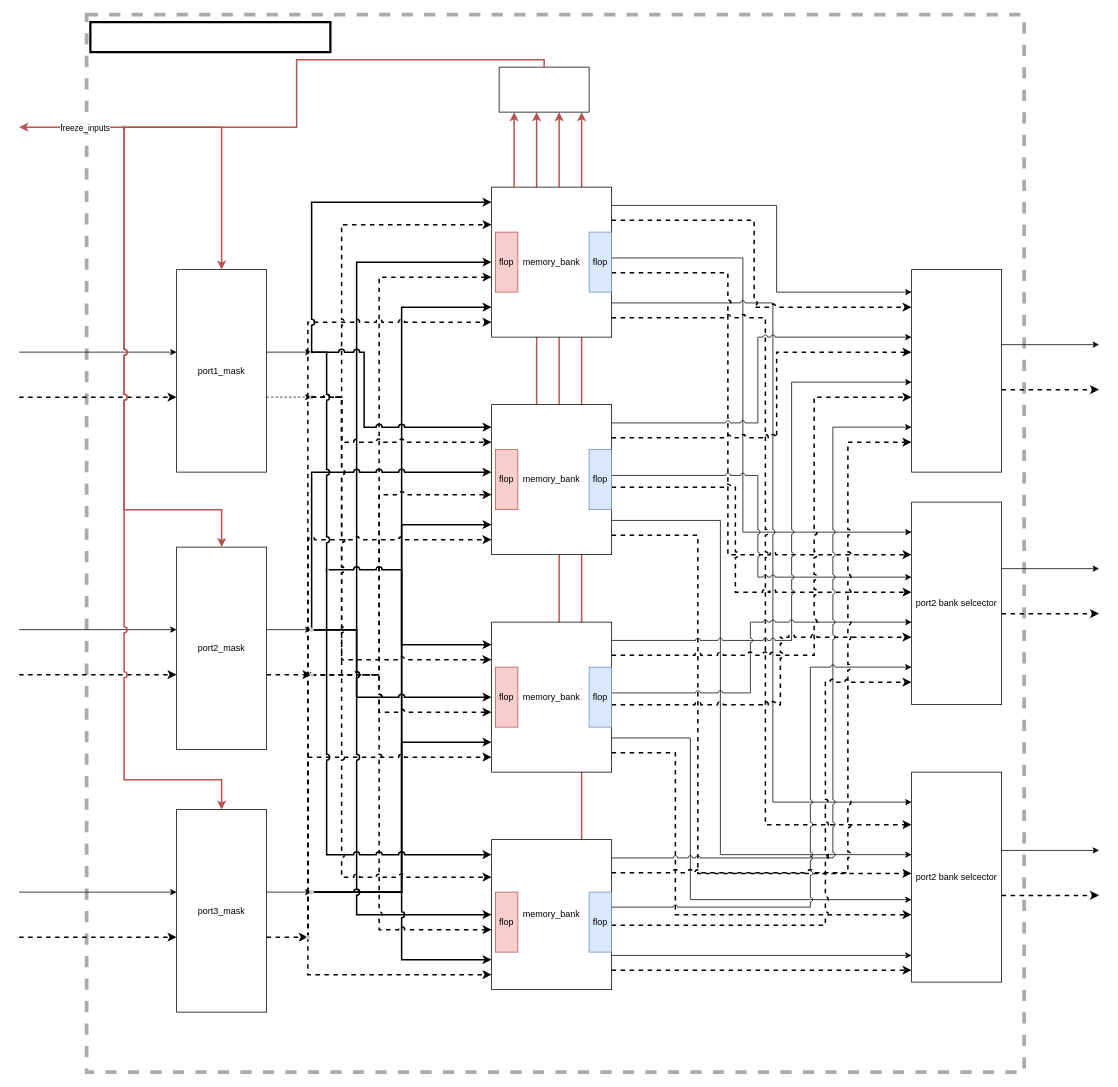
Image size: 1118x1087. Some labels were removed from this diagram. Here are the shapes that lost their labels. From the top down, the centre of each, then its label:
At (x=210, y=37): "Memory Bank Cluster".
At (x=543, y=89): "$OR".
At (x=956, y=370): "port1 bank selcector".
